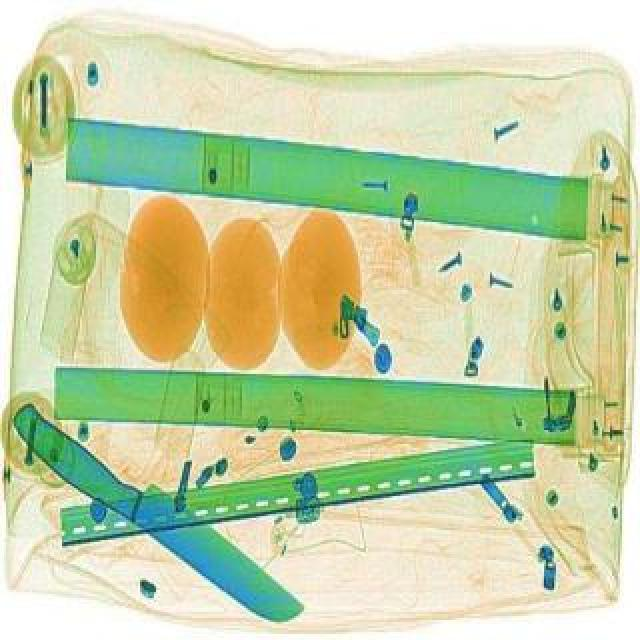knife: (0, 390, 316, 634)
